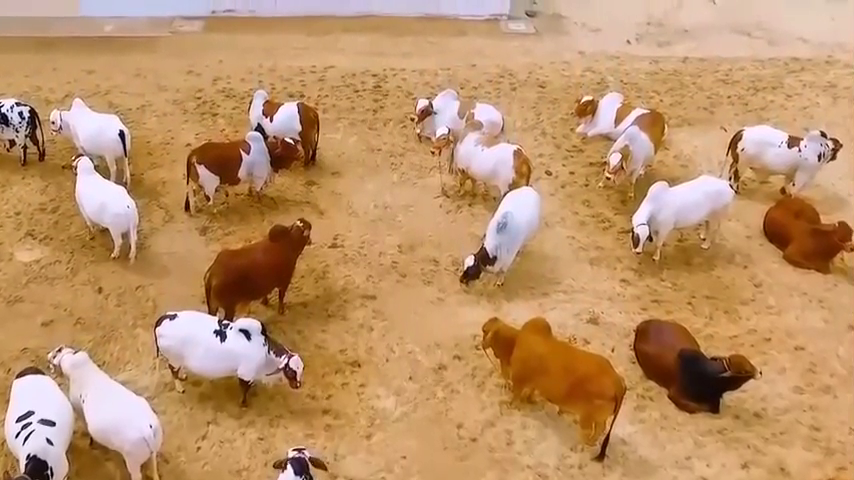bo: (474, 312, 628, 463), (629, 308, 779, 431), (46, 342, 172, 476), (151, 307, 313, 409), (195, 215, 318, 322), (176, 124, 308, 223), (452, 185, 550, 296), (45, 91, 147, 194), (623, 173, 737, 264), (728, 116, 846, 202), (66, 150, 150, 262), (427, 121, 536, 199), (12, 359, 82, 480), (558, 74, 682, 140), (762, 189, 854, 270), (593, 109, 674, 192), (241, 87, 328, 162), (410, 86, 513, 148), (5, 93, 42, 172)
